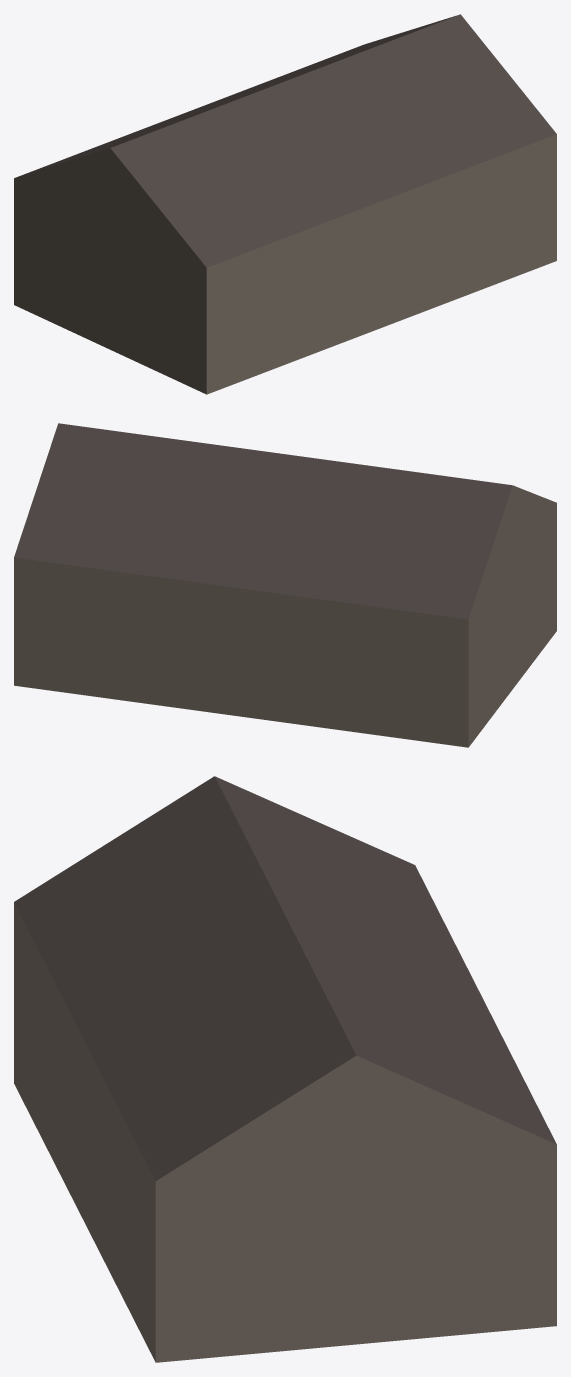
3 views of the same model, one above another, from view 1: azimuth 30°, elevation 25°; view 2: azimuth 150°, elevation 25°; view 3: azimuth 270°, elevation 25° (orthographic). The views are drawn at different scales.
Visible parts, largest first — view 1: HP-w389702074; view 2: HP-w389702074; view 3: HP-w389702074.
Boxes of the visible parts, <box> form: HP-w389702074: <box>14,14,556,394</box>; HP-w389702074: <box>14,423,556,747</box>; HP-w389702074: <box>14,776,556,1362</box>.
Size of the model in its own units: 22.41 by 9.55 by 16.27.
